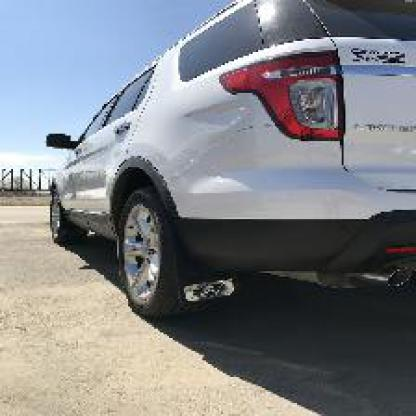not_emergency: (43, 2, 415, 354)
